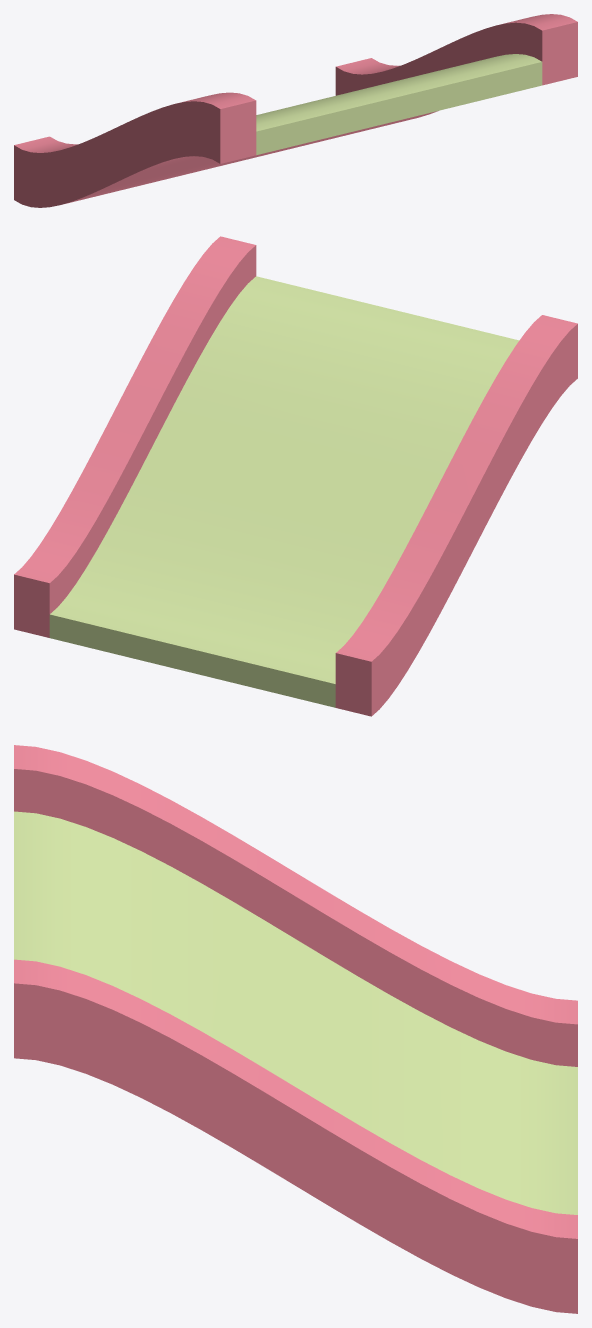
Rendered from ramp.fbx.
3 views of the same model, one above another, from view 1: azimuth 30°, elevation 25°; view 2: azimuth 150°, elevation 25°; view 3: azimuth 270°, elevation 25° (orthographic). The views are drawn at different scales.
Visible parts, largest first — view 1: ramp; view 2: ramp; view 3: ramp.
Boxes of the visible parts, x1,y1,x2,y2 form: ramp: (14, 14, 577, 207); ramp: (14, 236, 577, 716); ramp: (14, 745, 577, 1313).
Size of the model in its own units: 99.99 by 64.67 by 99.99.
